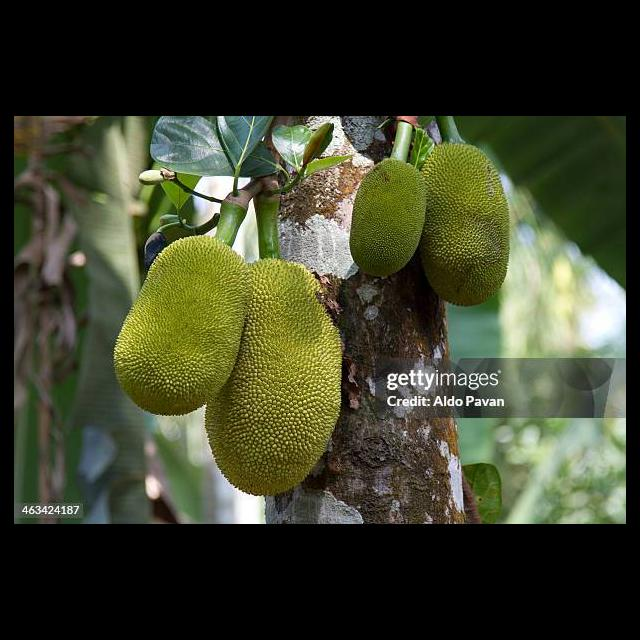mit: (203, 258, 339, 498), (109, 233, 251, 418), (421, 140, 514, 310), (352, 158, 424, 282)
